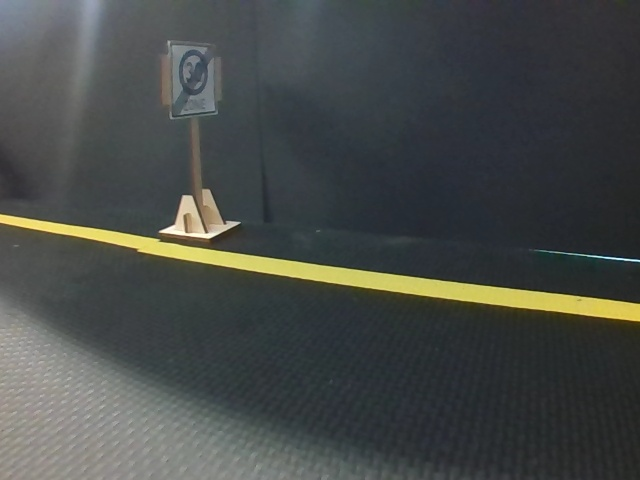no30: (169, 43, 218, 114)
